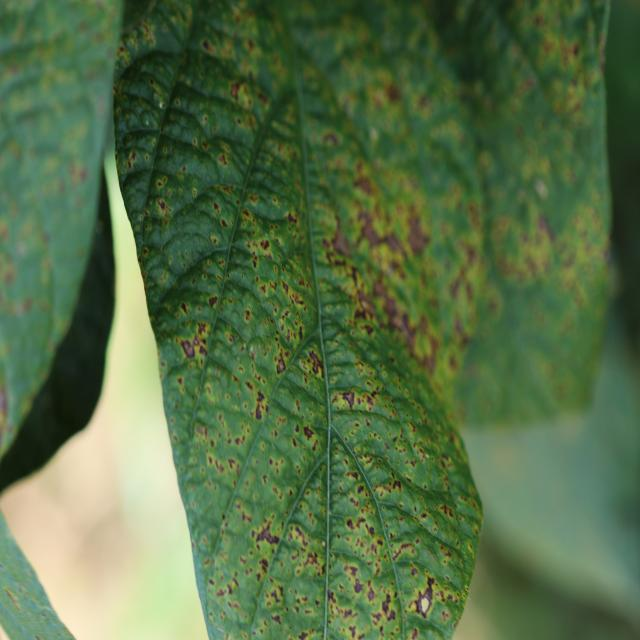Bacterial_Blight: (4, 68, 82, 135), (353, 202, 420, 277), (559, 197, 606, 279), (341, 501, 378, 545), (382, 303, 417, 348), (339, 559, 376, 599), (206, 441, 242, 479), (408, 576, 438, 621), (228, 76, 263, 113), (295, 347, 325, 388), (180, 327, 210, 363), (285, 523, 315, 555), (449, 265, 474, 302), (249, 388, 273, 421), (254, 519, 282, 546), (0, 251, 19, 290), (332, 224, 353, 258), (354, 173, 377, 198), (391, 539, 416, 561), (538, 214, 556, 243), (68, 160, 88, 186), (0, 385, 9, 439), (220, 573, 240, 597), (274, 348, 290, 377), (4, 587, 22, 612), (140, 109, 158, 129), (267, 586, 283, 608), (339, 390, 355, 410), (354, 306, 371, 324), (322, 131, 339, 148), (386, 83, 401, 102), (534, 179, 548, 198), (439, 503, 454, 519), (195, 424, 208, 440), (303, 425, 315, 441), (259, 558, 269, 575), (240, 341, 250, 357), (285, 211, 297, 224), (17, 242, 27, 257), (571, 42, 580, 58), (370, 126, 379, 142), (208, 295, 218, 309), (271, 614, 282, 626), (260, 238, 270, 251), (392, 479, 402, 492), (219, 152, 228, 166), (179, 302, 188, 315), (348, 625, 357, 638), (157, 199, 166, 211), (210, 233, 219, 245), (202, 40, 211, 52), (346, 518, 354, 530), (154, 91, 162, 103), (357, 484, 365, 495), (251, 256, 258, 268), (129, 151, 136, 163), (213, 202, 220, 212), (201, 140, 208, 150), (244, 310, 250, 321), (292, 437, 298, 448), (262, 474, 268, 485), (221, 219, 228, 228), (156, 180, 163, 189), (149, 78, 155, 86)
Soybean: (112, 0, 610, 640)
